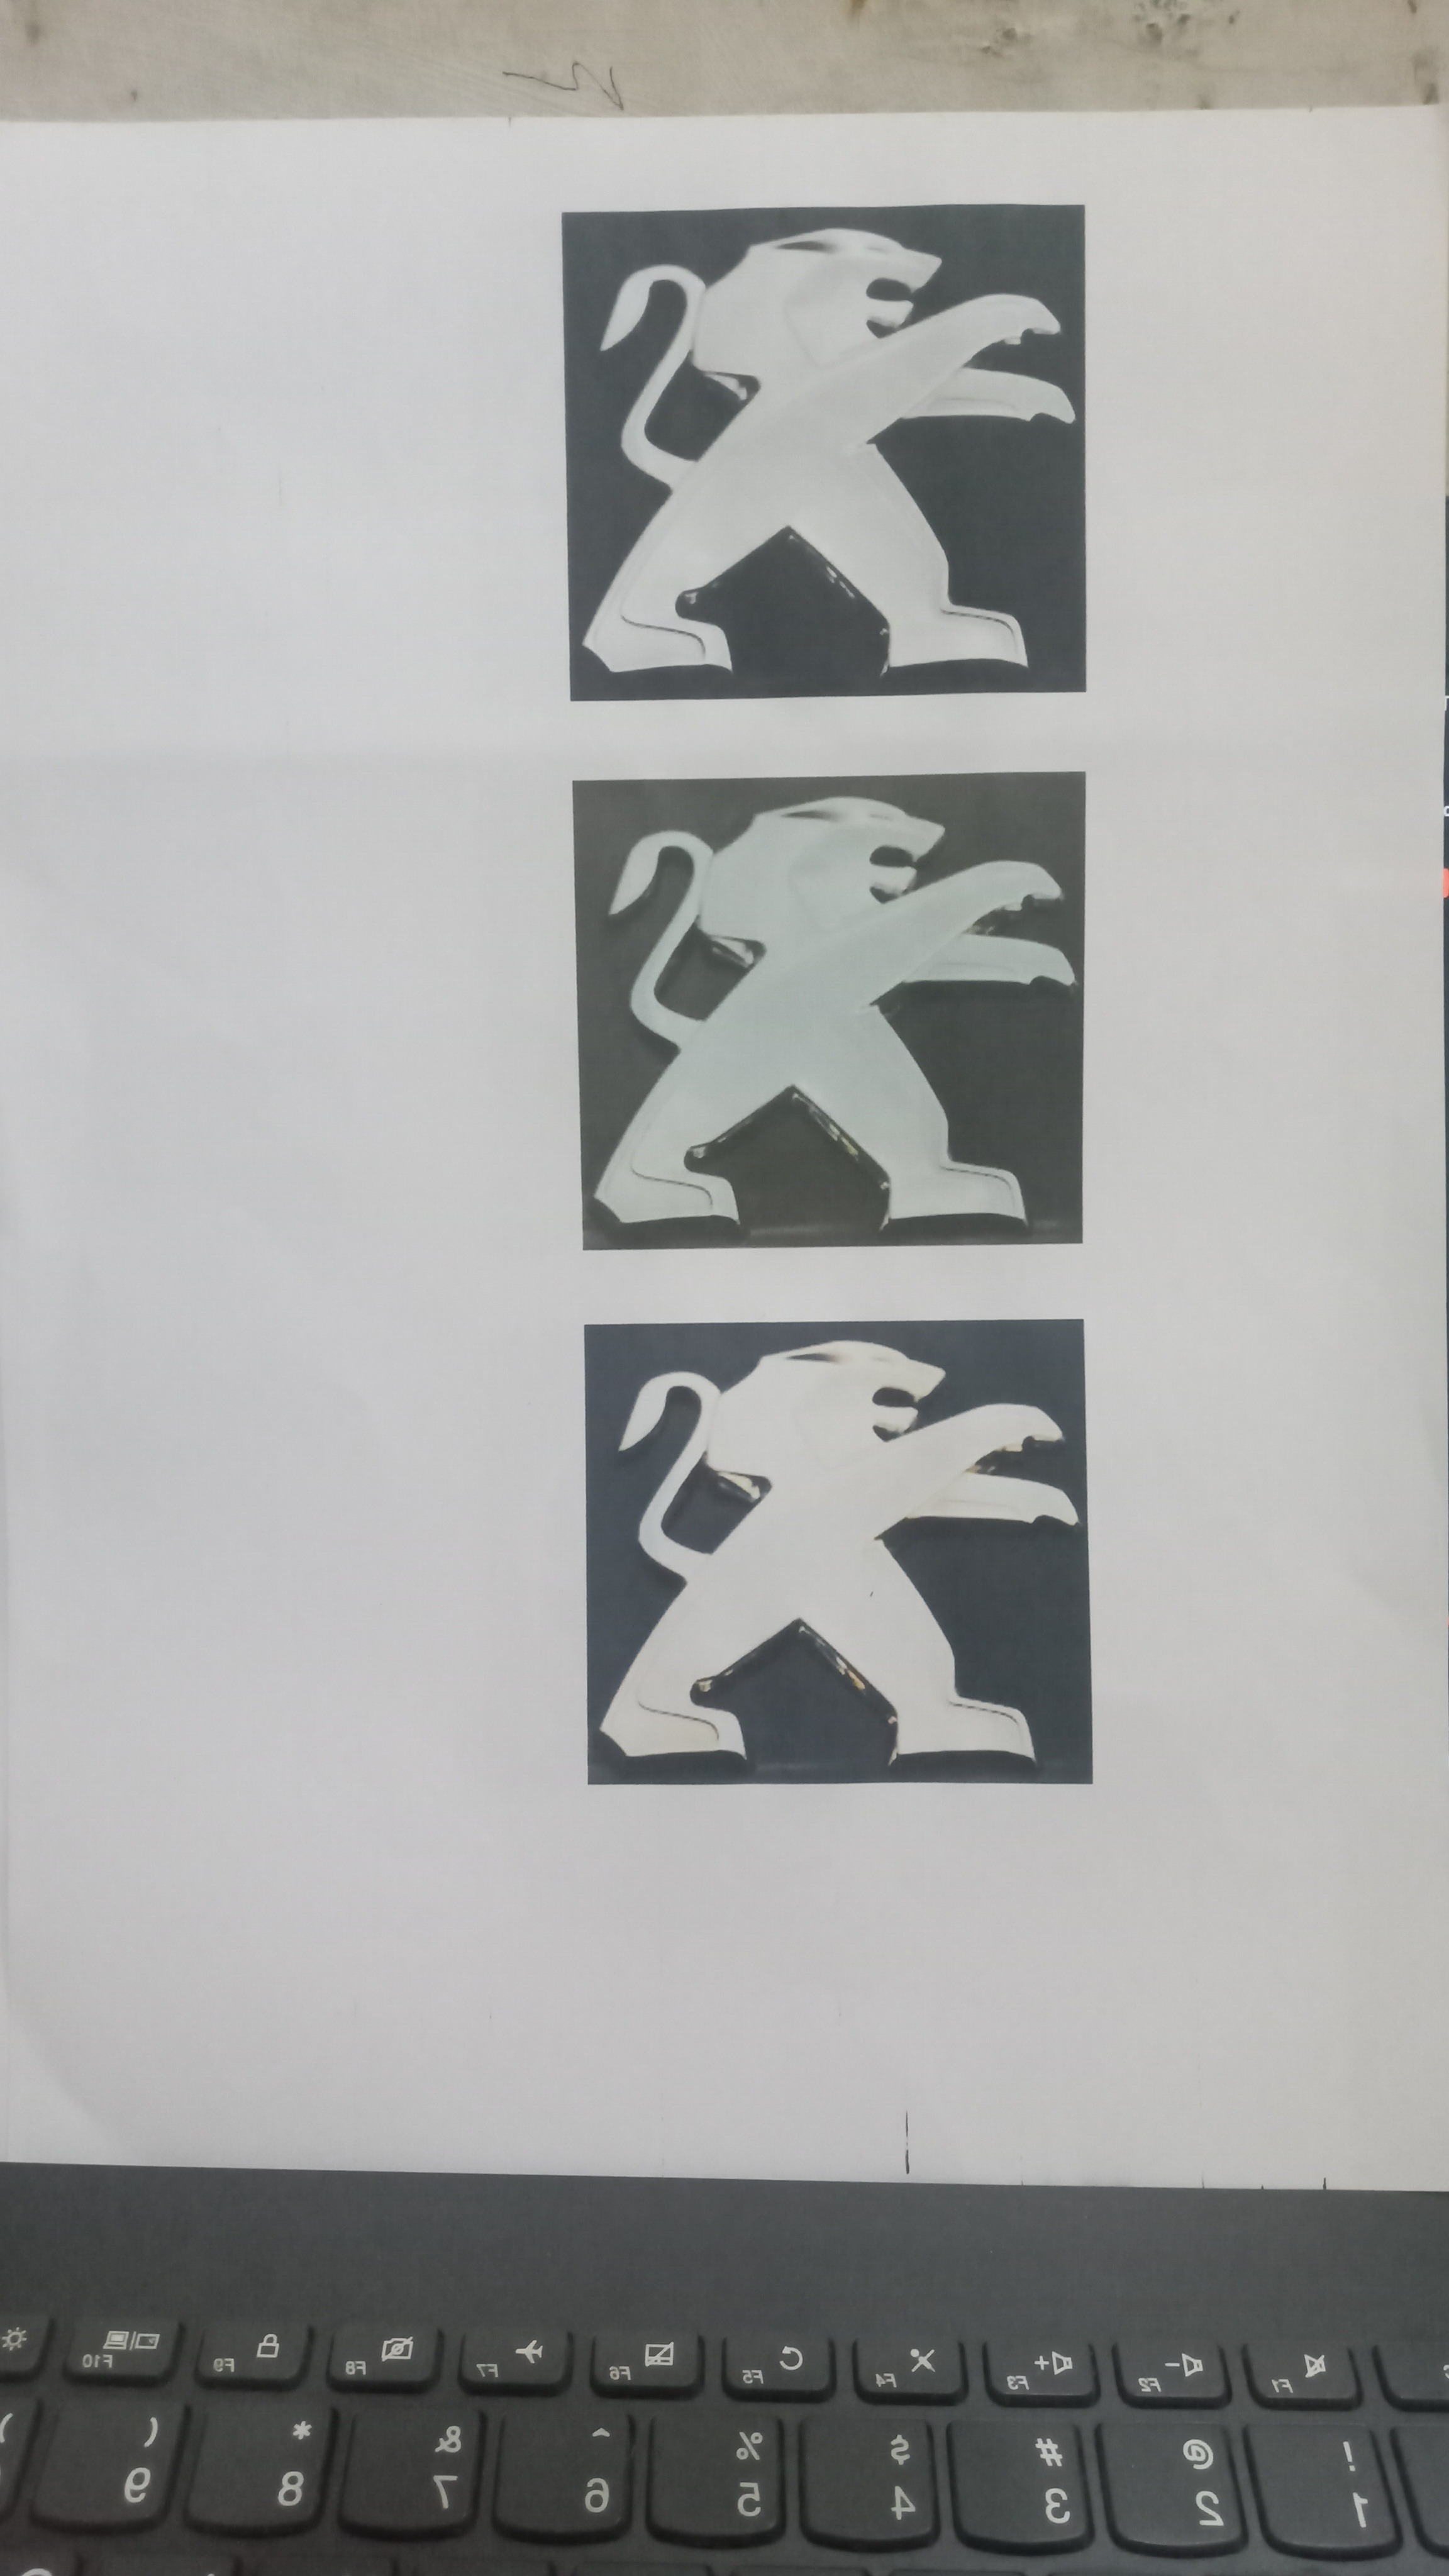Peugeot: (570, 216, 1086, 685), (582, 786, 1083, 1242), (594, 1325, 1086, 1773)
